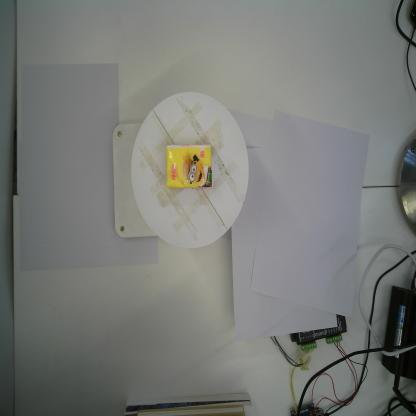Tissue: (166, 144, 212, 188)
